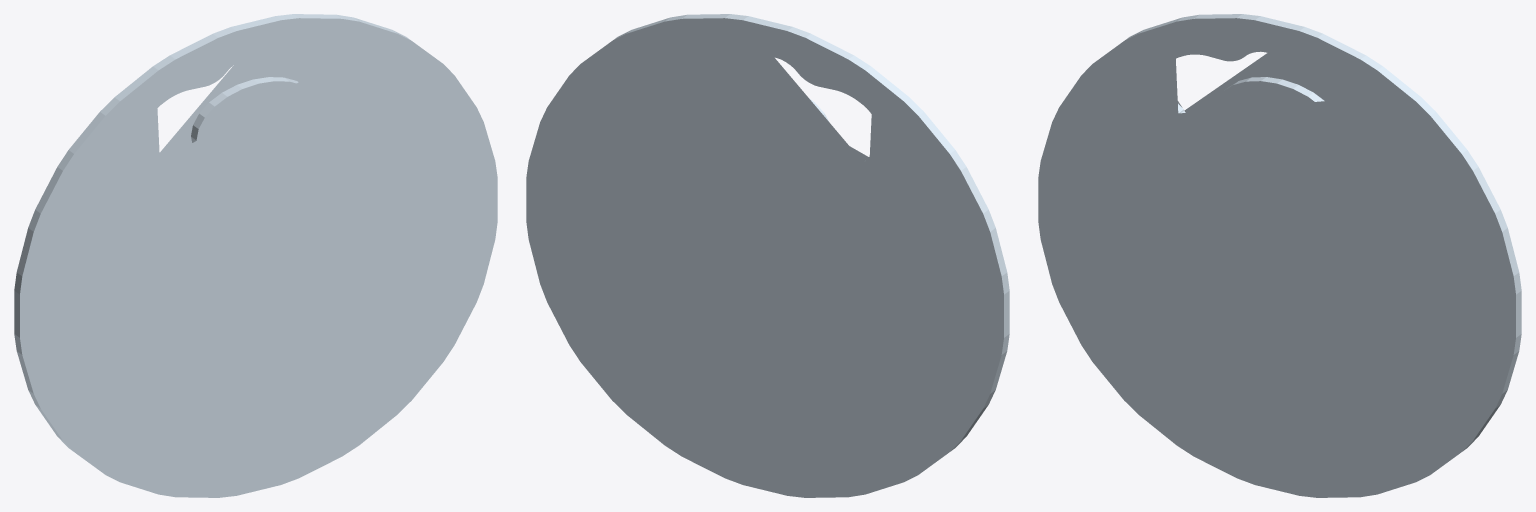
The model's file is Blueberry_3D_Icon.fbx.
3 renders of one model, left to right at view 1: azimuth 30°, elevation 25°; view 2: azimuth 150°, elevation 25°; view 3: azimuth 330°, elevation 25°, orthographic.
Parts seen in each view (by area): view 1: Blueberry_3D_Icon; view 2: Blueberry_3D_Icon; view 3: Blueberry_3D_Icon.
Part boxes in pixels (x1,y1,x2,y2): Blueberry_3D_Icon: [14, 14, 497, 497]; Blueberry_3D_Icon: [526, 14, 1009, 497]; Blueberry_3D_Icon: [1038, 14, 1521, 497].
Bounding box in the file's own units: 97.55 × 90.67 × 2.
